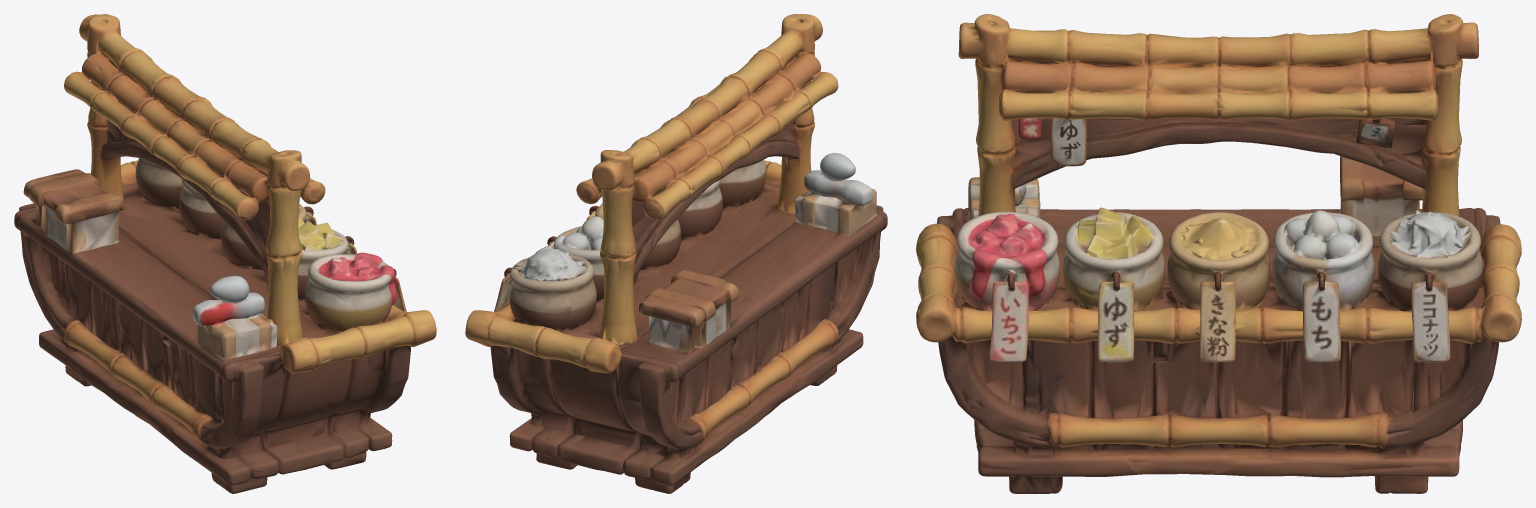
The model's file is JP_사물_s2_station_topping_t2_old.glb.
The picture shows the model from 3 angles, left to right: view 1: azimuth 30°, elevation 25°; view 2: azimuth 150°, elevation 25°; view 3: azimuth 270°, elevation 25°; orthographic projection. The views are drawn at different scales.
Visible parts, largest first — view 1: tripo_node_084646b0-9849-4c96-8554-d8c5b5451a0a; view 2: tripo_node_084646b0-9849-4c96-8554-d8c5b5451a0a; view 3: tripo_node_084646b0-9849-4c96-8554-d8c5b5451a0a.
Boxes of the visible parts, x1=… form: tripo_node_084646b0-9849-4c96-8554-d8c5b5451a0a: x1=14, y1=14, x2=436, y2=493; tripo_node_084646b0-9849-4c96-8554-d8c5b5451a0a: x1=465, y1=14, x2=887, y2=493; tripo_node_084646b0-9849-4c96-8554-d8c5b5451a0a: x1=916, y1=14, x2=1521, y2=493.
Bounding box in the file's own units: 0.498 × 0.7675 × 0.9998.
1 material, 1 textured.
